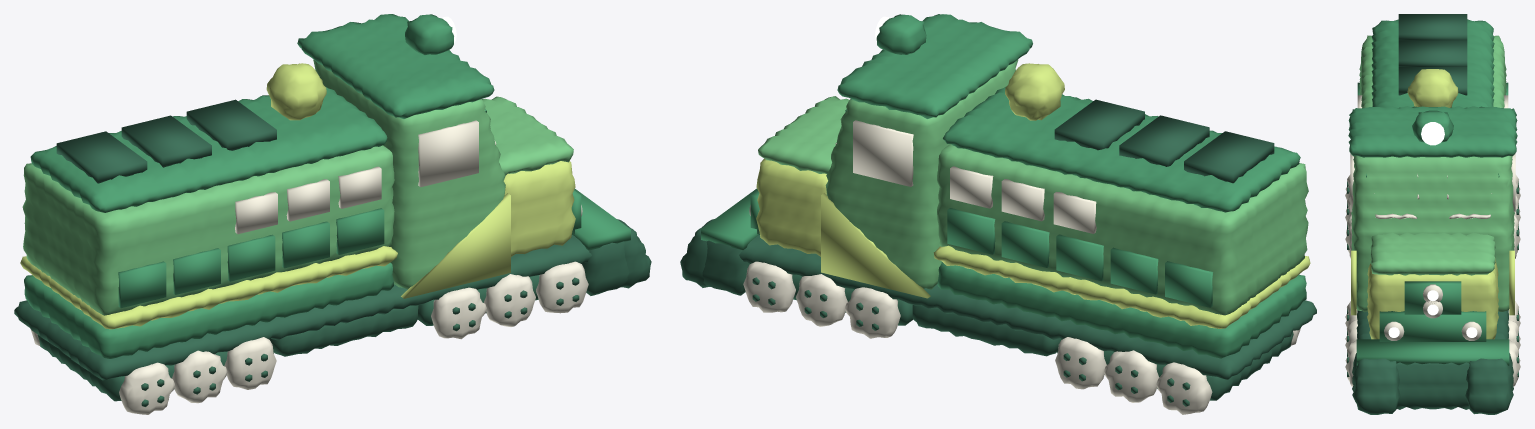
The model's file is Locomotive_Crochet.fbx.
The picture shows the model from 3 angles, left to right: view 1: azimuth 30°, elevation 25°; view 2: azimuth 150°, elevation 25°; view 3: azimuth 270°, elevation 25°; orthographic projection. The views are drawn at different scales.
Visible parts, largest first — view 1: Locomotive_Crochet; view 2: Locomotive_Crochet; view 3: Locomotive_Crochet.
Part boxes in pixels (x1,y1,x2,y2): Locomotive_Crochet: [14, 14, 651, 414]; Locomotive_Crochet: [680, 14, 1316, 414]; Locomotive_Crochet: [1345, 14, 1520, 414].
Size of the model in its own units: 5.09 by 2.48 by 1.67.
